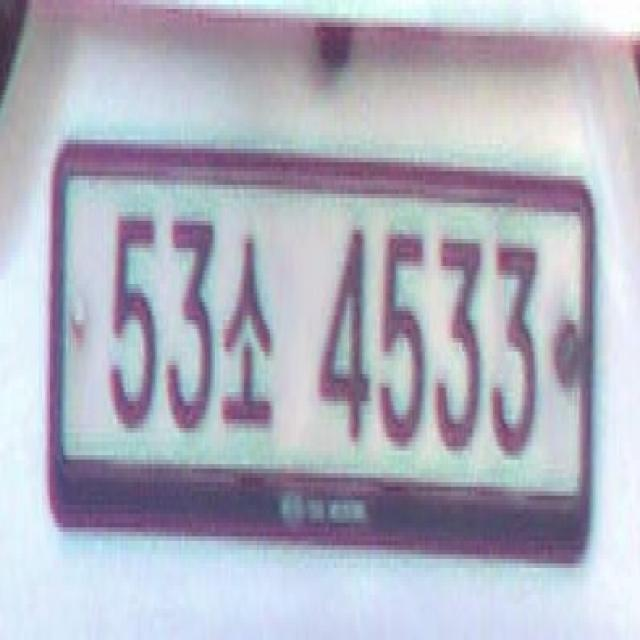3: (486, 229, 538, 453), (434, 221, 482, 461), (168, 198, 215, 443)
4: (311, 214, 372, 458)
5: (104, 202, 162, 434), (374, 218, 426, 466)
license_plate: (42, 124, 600, 581)
so: (223, 226, 276, 447)
